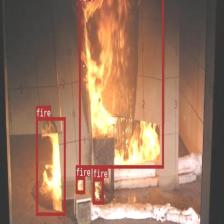fire: (79, 0, 163, 168), (36, 117, 65, 215), (92, 177, 104, 204), (76, 176, 84, 193)
